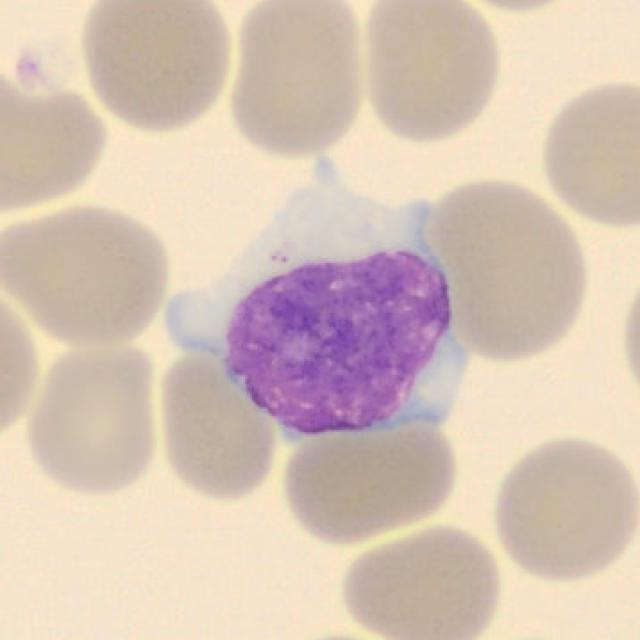Linfocito atipico: (164, 155, 468, 437)
